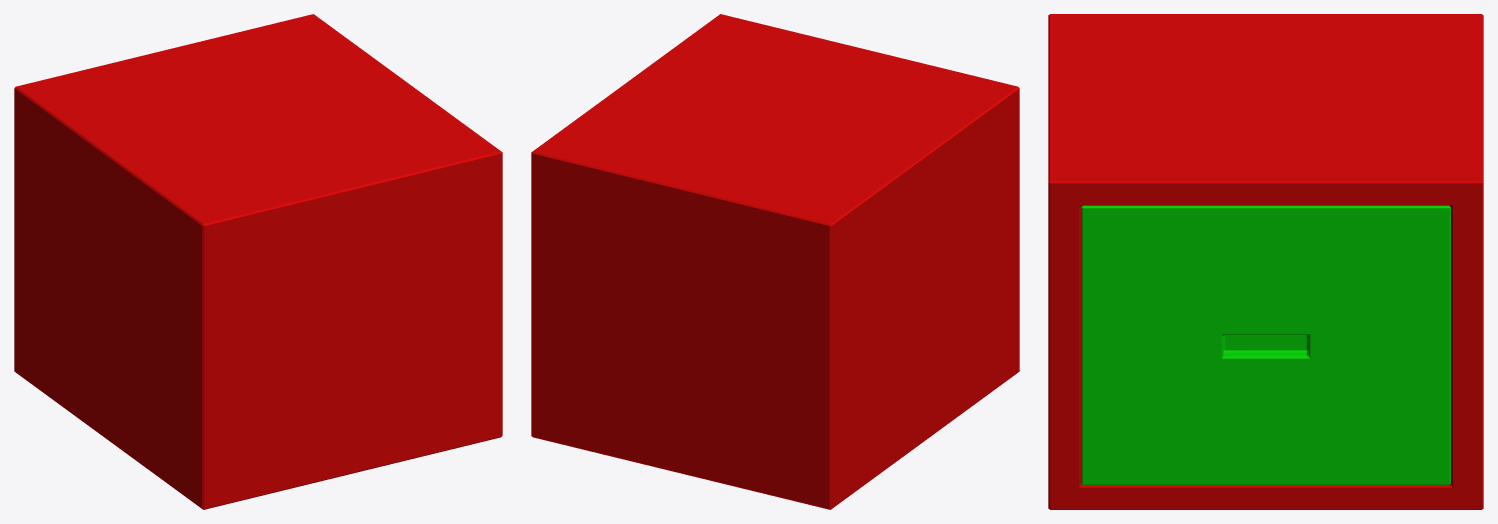
File: 6drawer1.fbx
The picture shows the model from 3 angles, left to right: view 1: azimuth 30°, elevation 25°; view 2: azimuth 150°, elevation 25°; view 3: azimuth 270°, elevation 25°; orthographic projection. The views are drawn at different scales.
Visible parts, largest first — view 1: Cube; view 2: Cube; view 3: Cube.
Part boxes in pixels (left/top/right/bottom): Cube: left=14, top=14, right=502, bottom=509; Cube: left=531, top=14, right=1019, bottom=509; Cube: left=1048, top=14, right=1483, bottom=509.
Bounding box in the file's own units: 220 × 200 × 240.
